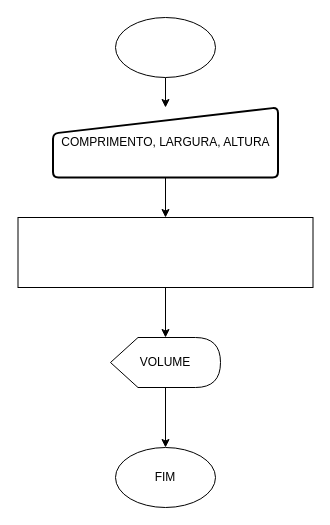
Some shapes in this 330 by 525 pixel diagram are drawn without their labels. The shapes that lost their labels are listed below. From the top down, each one's centre as x and y in pixels, then its label:
point 165,47: INICIO
point 165,252: VOLUME<-COMPRIMENTO*LARGURA*ALTURA
